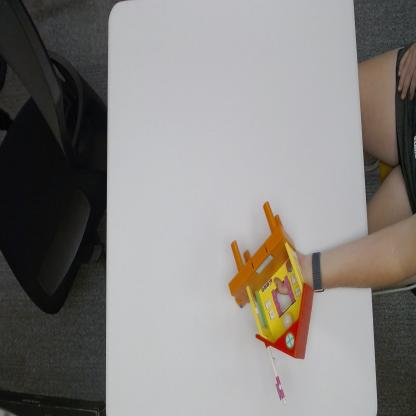Arm: (324, 242, 384, 289)
Hand: (272, 245, 310, 293)
House: (228, 204, 315, 403)
